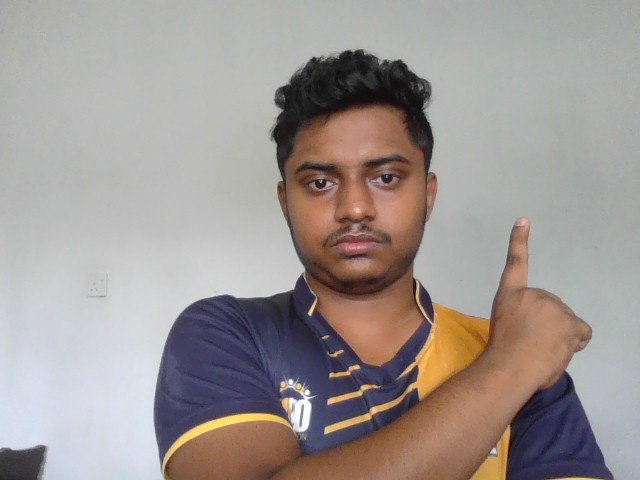Me: (491, 217, 594, 394)
